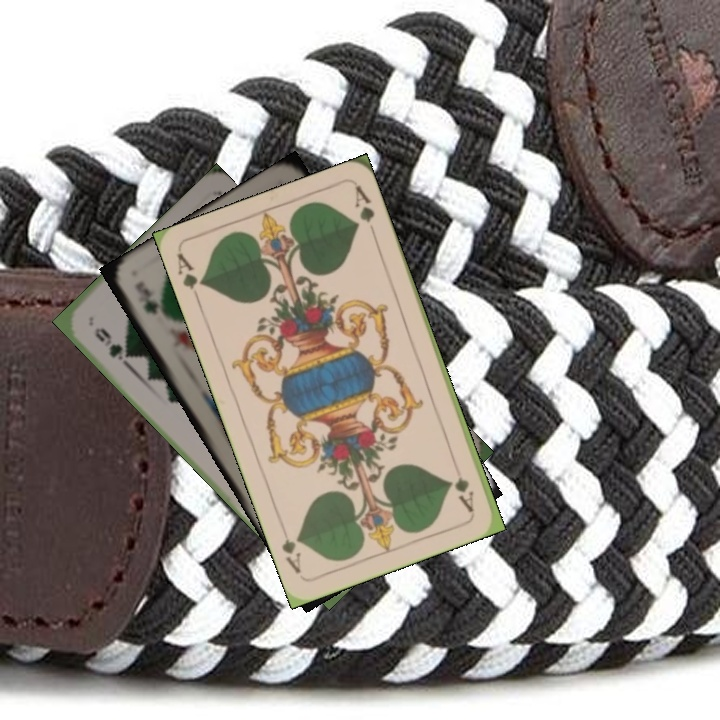G9: (90, 323, 133, 368)
GA: (172, 249, 209, 306), (448, 457, 477, 515)
GK: (139, 282, 161, 318)
